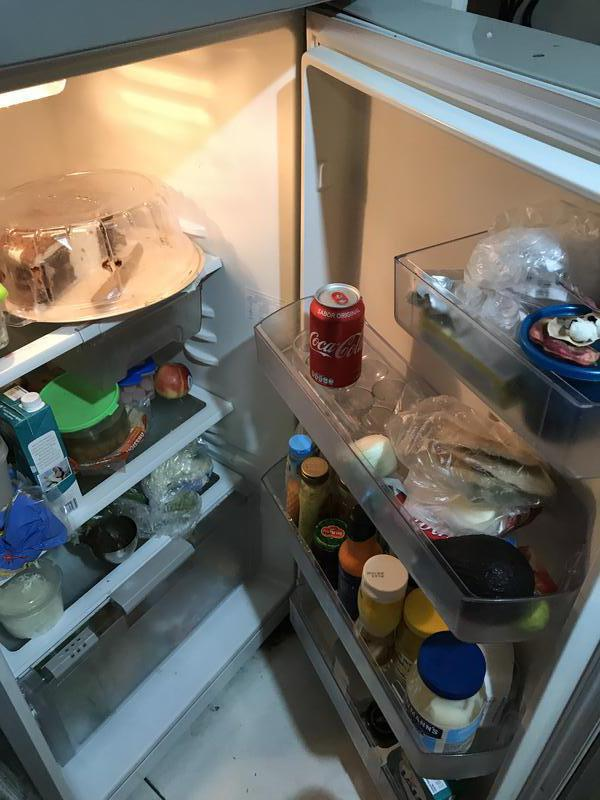coca_cola: (306, 283, 365, 389)
